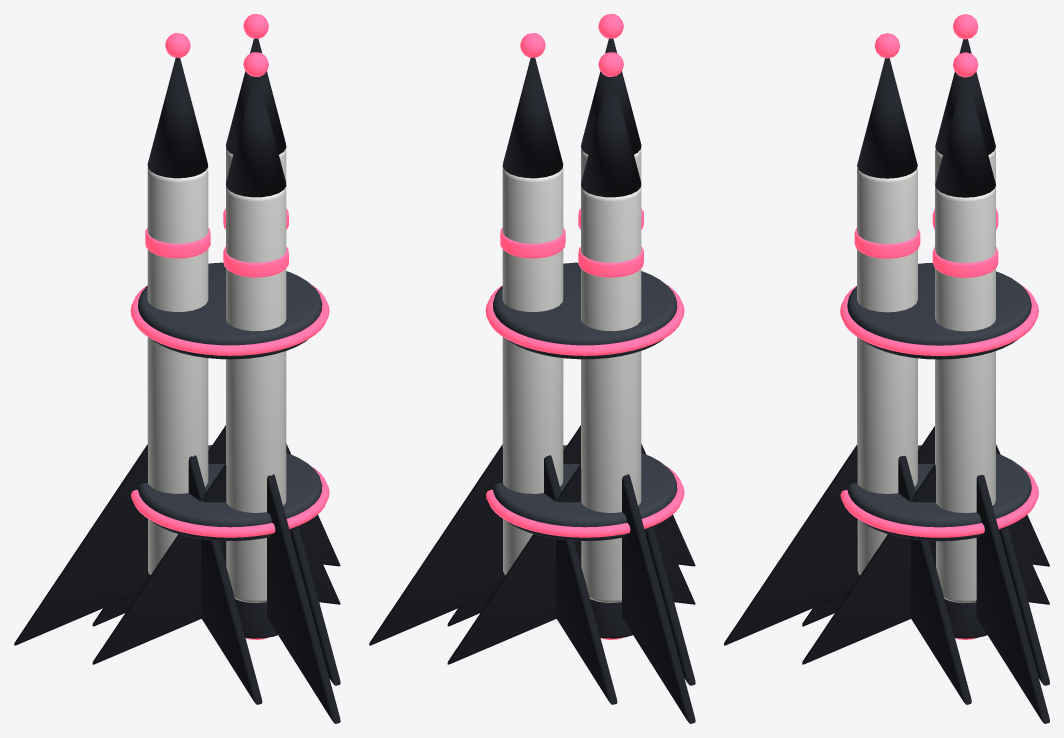
Rendered from seeker.glb.
The picture shows the model from 3 angles, left to right: view 1: azimuth 30°, elevation 25°; view 2: azimuth 150°, elevation 25°; view 3: azimuth 270°, elevation 25°; orthographic projection.
Parts seen in each view (by area): view 1: Body0, Body1, Fin10, Fin02, Fin00, Clamp0, Clamp1, Fin11, Nose0, Nose1, ClampLight0, ClampLight1 (+8 smaller); view 2: Body1, Body2, Fin20, Fin12, Fin10, Clamp0, Clamp1, Fin21, Nose2, Nose1, ClampLight0, ClampLight1 (+8 smaller); view 3: Body2, Body0, Fin00, Fin22, Fin20, Clamp0, Clamp1, Fin01, Nose0, Nose2, ClampLight0, ClampLight1 (+8 smaller).
Part boxes in pixels (x1,y1,x2,y2): Body0: (226,187,286,602); Body1: (147,168,208,574); Fin10: (14,444,149,645); Fin02: (92,463,226,664); Fin00: (267,474,340,723); Clamp0: (138,262,322,359); Clamp1: (138,445,322,540); Fin11: (188,455,262,704); Nose0: (226,77,286,197); Nose1: (147,57,208,178); ClampLight0: (130,284,329,355); ClampLight1: (131,466,329,537); Body1: (581,187,641,602); Body2: (502,168,563,575); Fin20: (369,444,504,645); Fin12: (447,463,581,664); Fin10: (622,474,695,723); Clamp0: (493,262,677,359); Clamp1: (493,445,677,540); Fin21: (544,455,617,704); Nose2: (502,57,563,178); Nose1: (581,77,641,197); ClampLight0: (485,284,684,355); ClampLight1: (486,466,684,537); Body2: (935,187,995,602); Body0: (857,168,917,574); Fin00: (724,445,859,645); Fin22: (802,464,935,664); Fin20: (976,475,1049,723); Clamp0: (847,263,1031,359); Clamp1: (847,445,1031,541); Fin01: (898,456,971,704); Nose0: (857,58,917,178); Nose2: (935,77,995,197); ClampLight0: (840,285,1038,355); ClampLight1: (840,467,1038,537).
Size of the model in its own units: 0.4686 by 0.84 by 0.4065.
